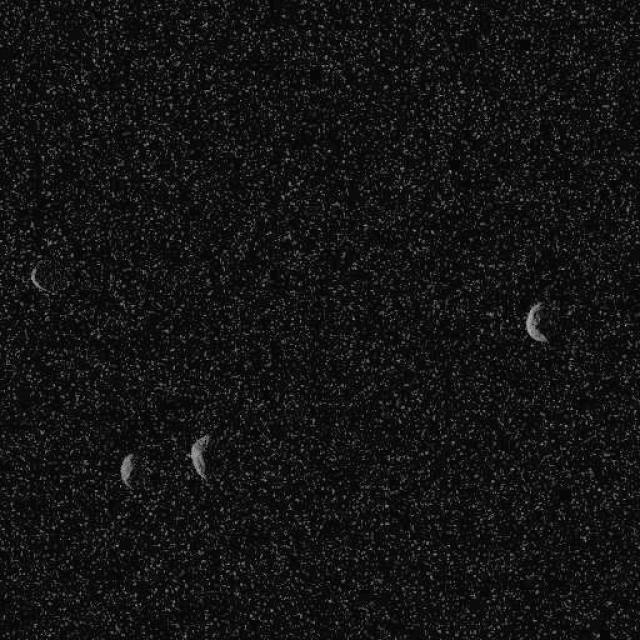D2: (524, 300, 550, 342), (189, 432, 210, 480), (29, 265, 56, 296), (119, 452, 135, 488)
